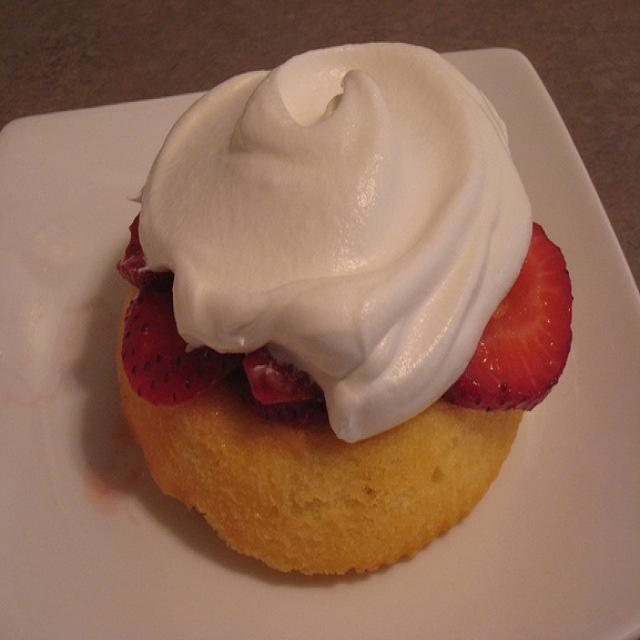蛋糕甜品: (40, 27, 611, 594)
